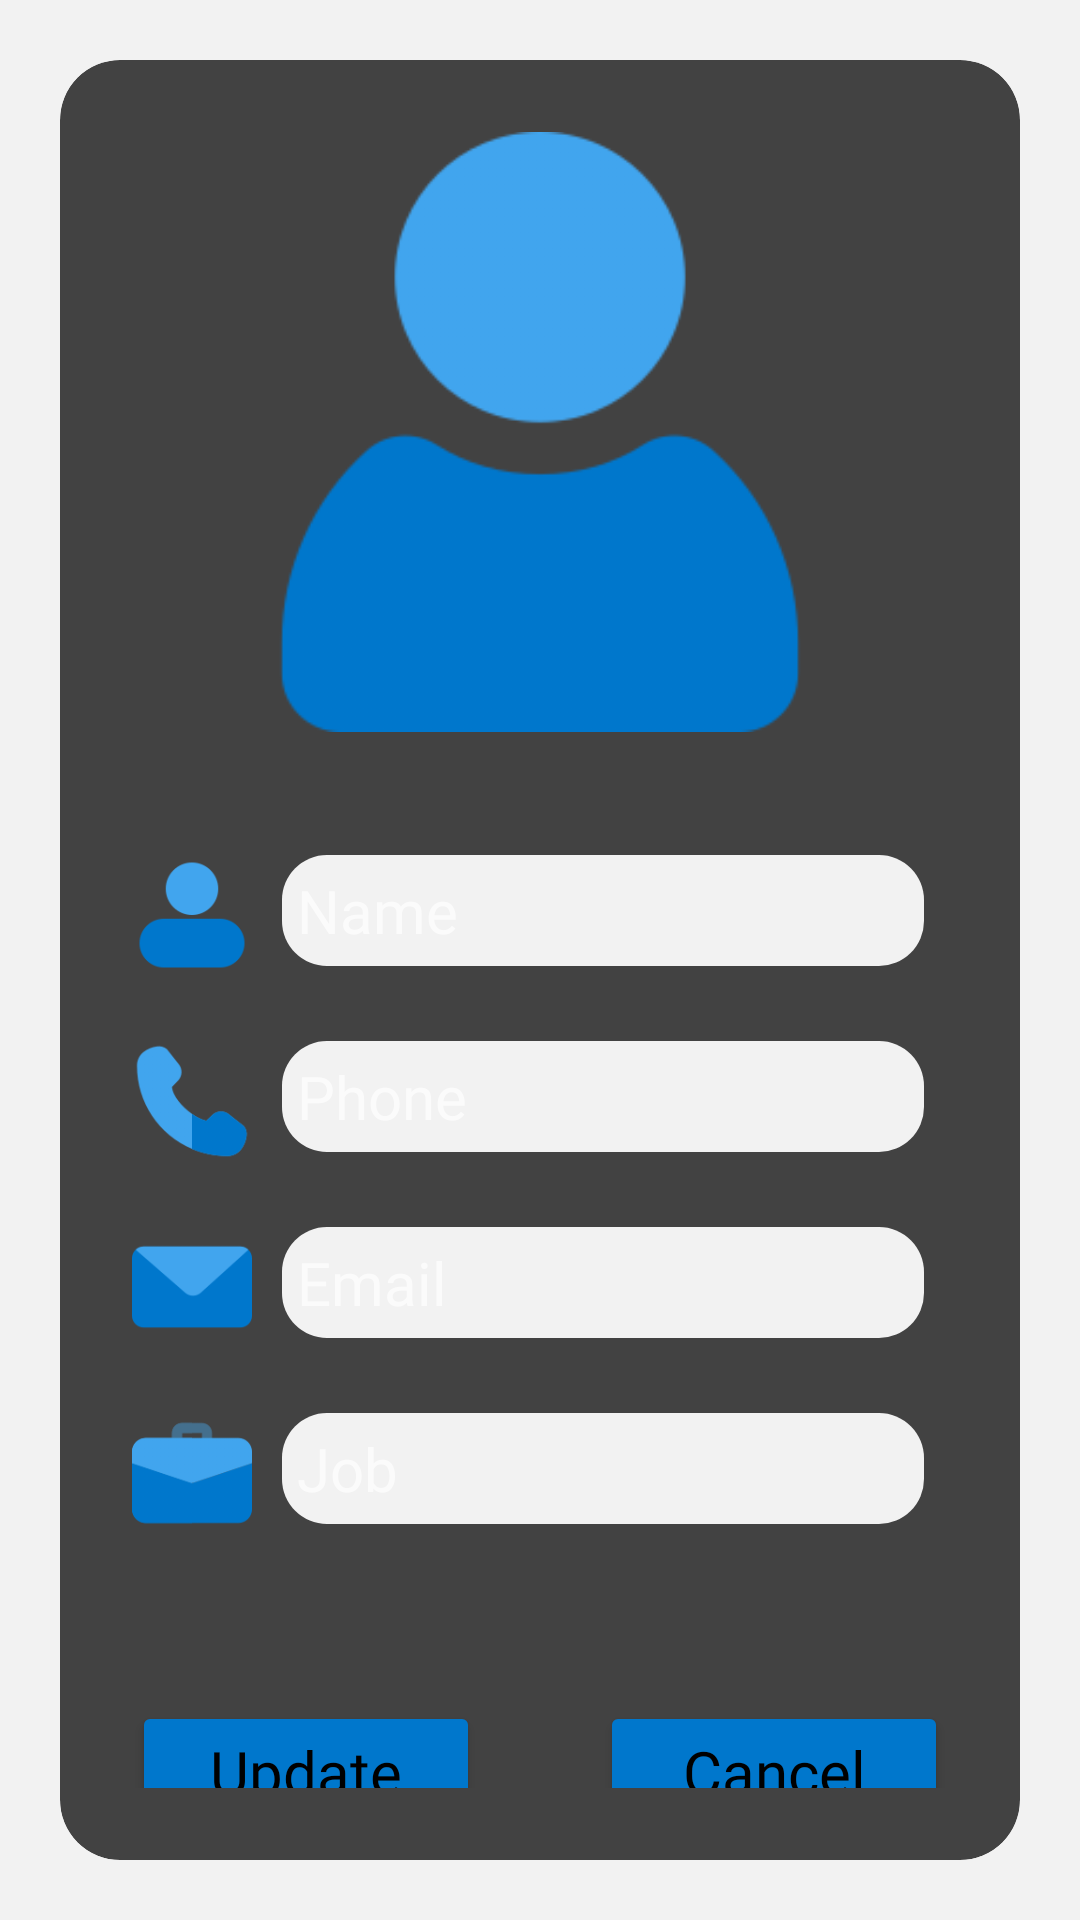

Point at icon controls on the screen. Image size 1080px×1920px, points as (x,y).
envelope: (192,1287)
